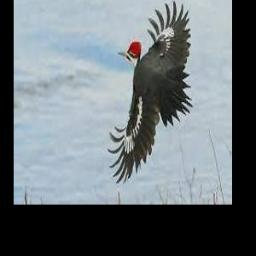Woodpecker: (107, 0, 193, 183)
